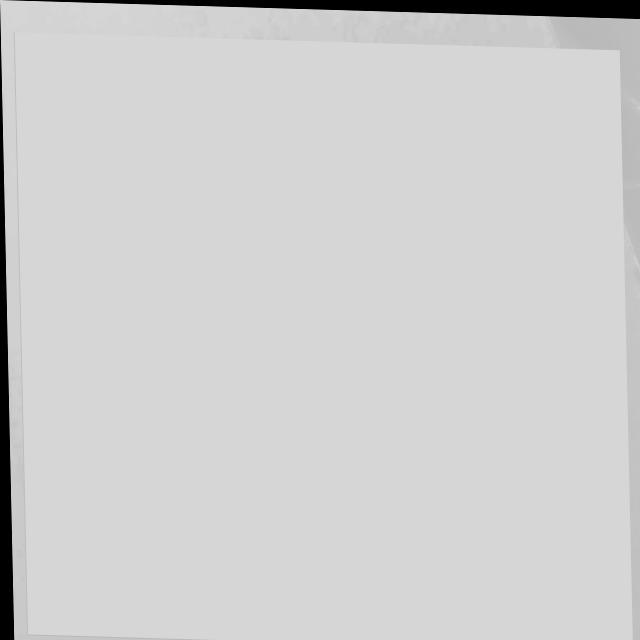qr_code: (15, 33, 630, 640)
